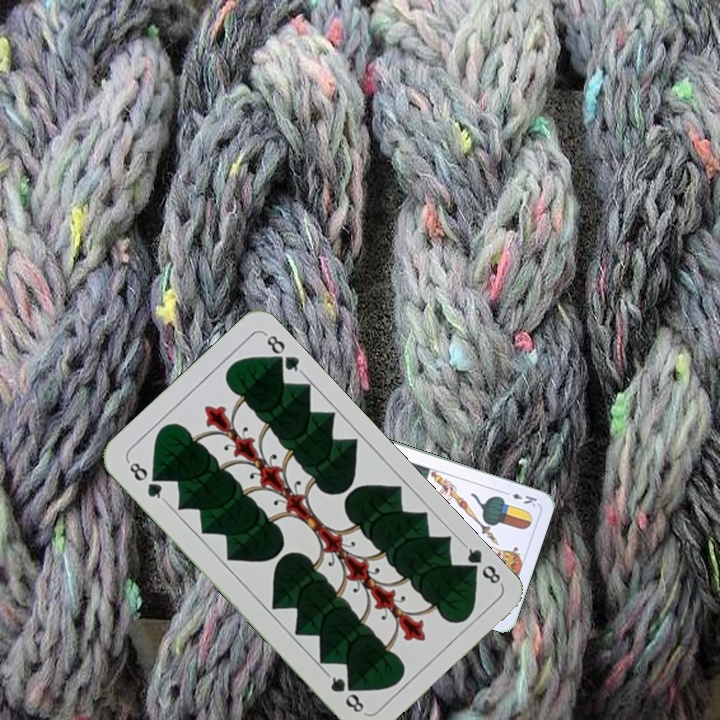EK: (499, 487, 539, 509)
G8: (459, 540, 505, 587), (124, 457, 169, 504)
